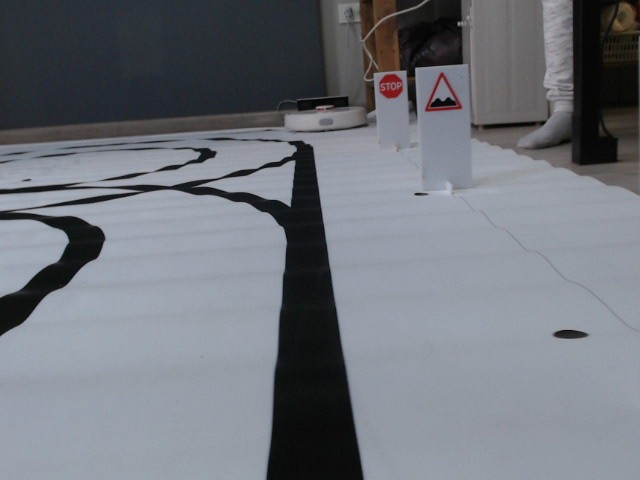Nerov: (424, 71, 462, 113)
